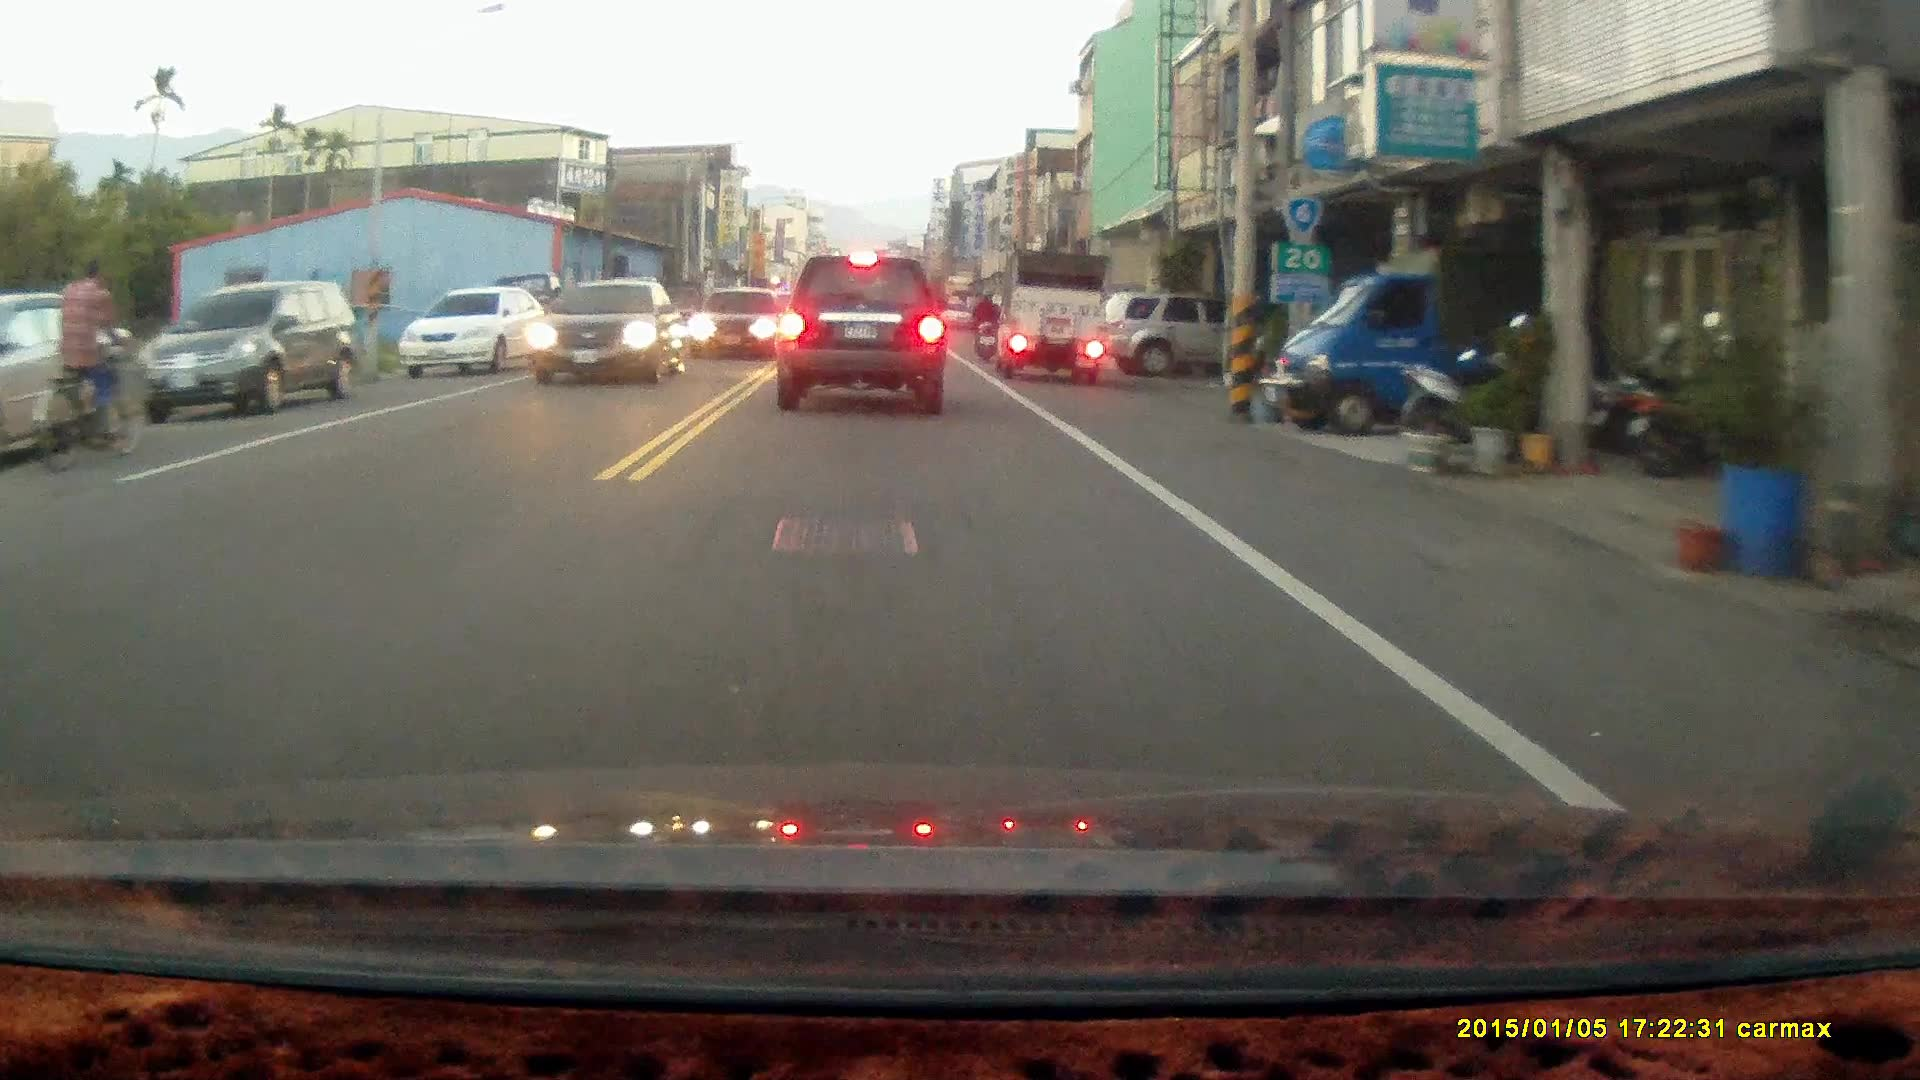rider: (28, 254, 154, 478), (968, 283, 1003, 363)
vehicle: (1282, 216, 1544, 440), (133, 279, 363, 417), (773, 258, 948, 423), (1, 290, 151, 470), (529, 279, 683, 390), (402, 286, 560, 379), (1002, 250, 1109, 385), (1105, 291, 1224, 383), (692, 289, 786, 361)
